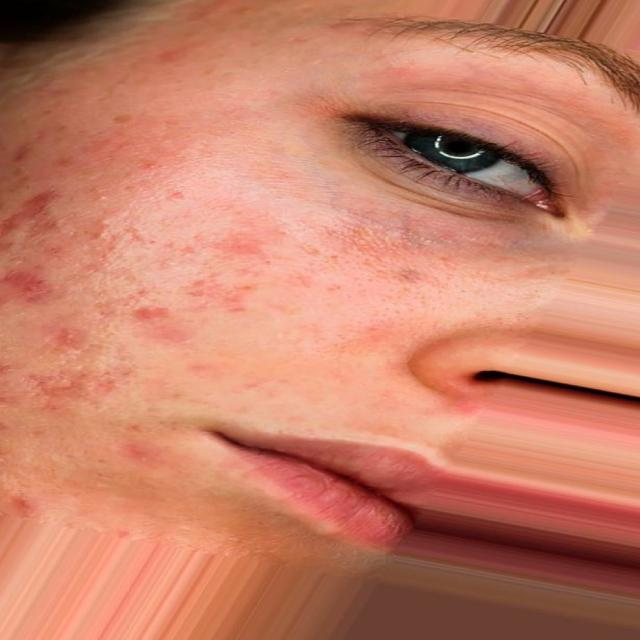Acne: (3, 356, 94, 412), (108, 280, 211, 328), (0, 186, 78, 243), (6, 254, 78, 309), (100, 230, 197, 262), (45, 318, 109, 363), (92, 186, 154, 228), (113, 124, 185, 160), (110, 418, 166, 463), (217, 235, 275, 267), (146, 42, 208, 68)
